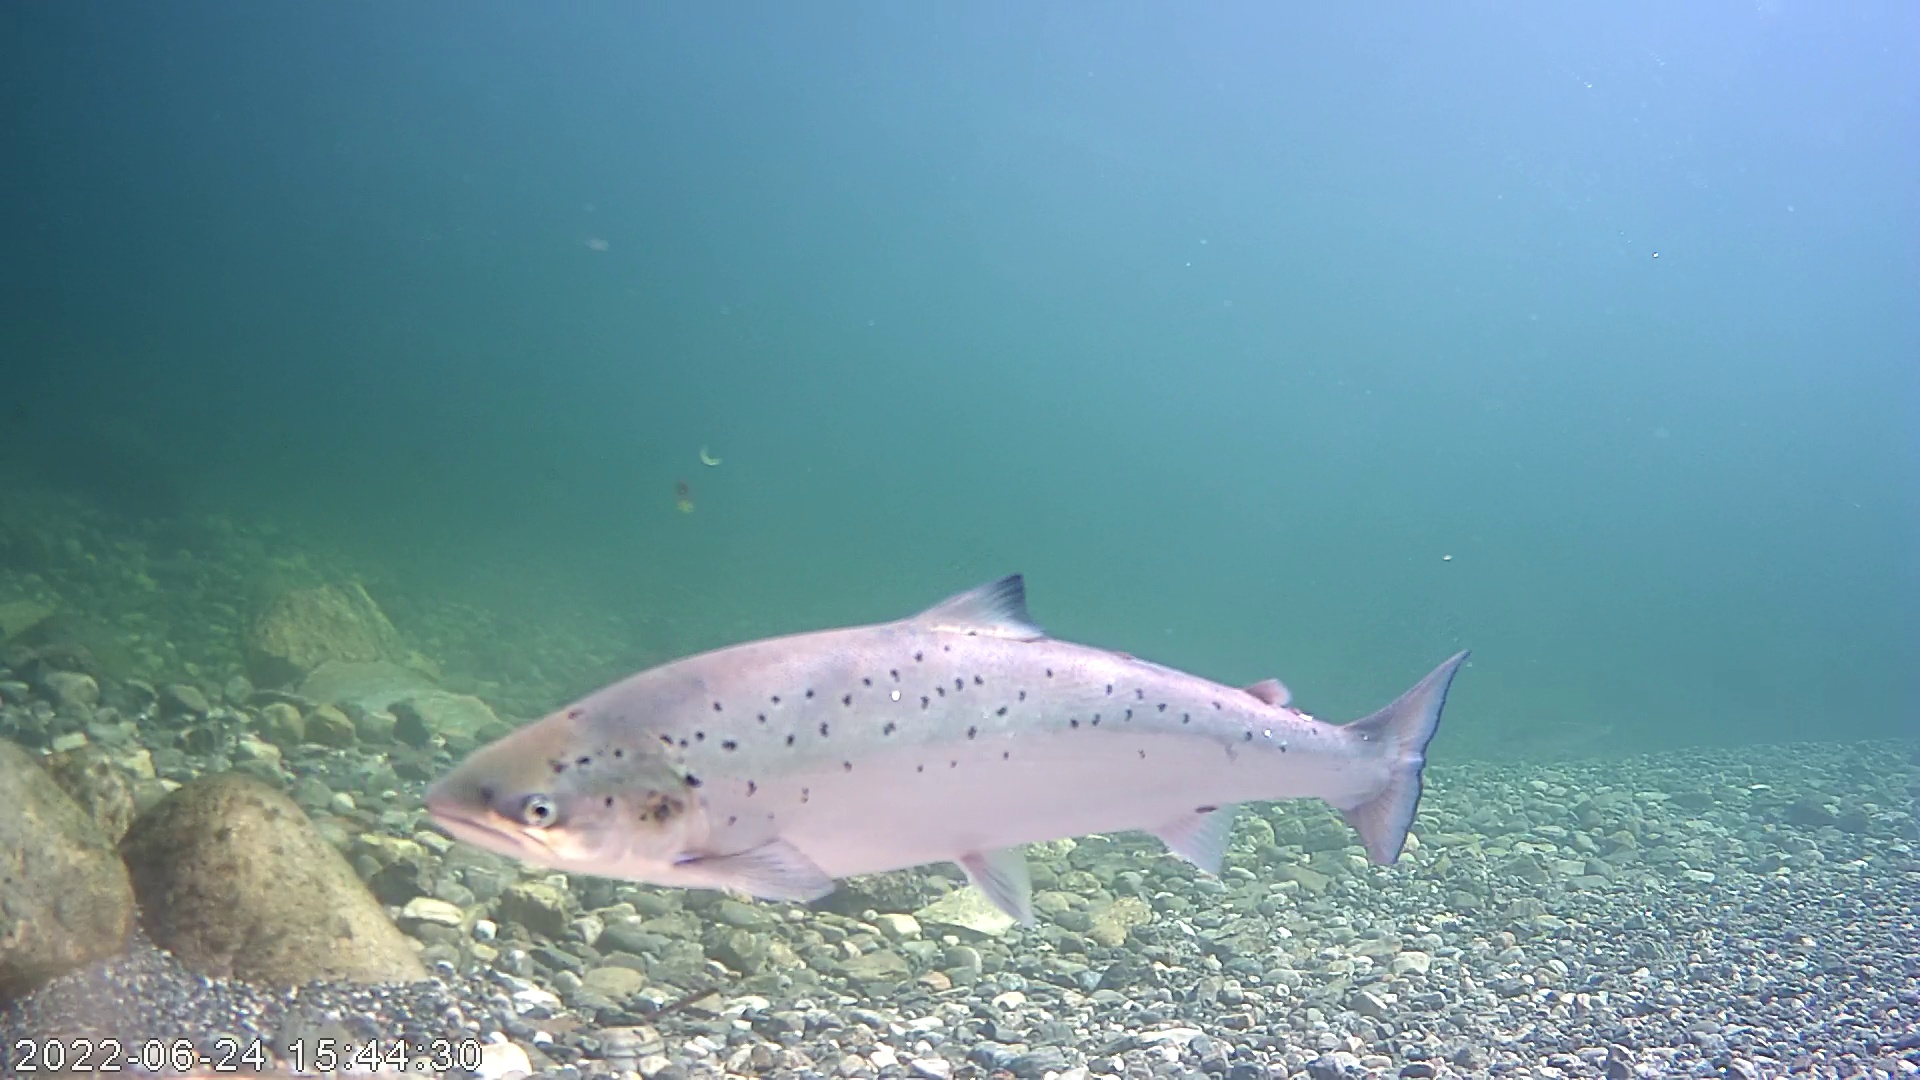salmon: (419, 570, 1474, 927)
